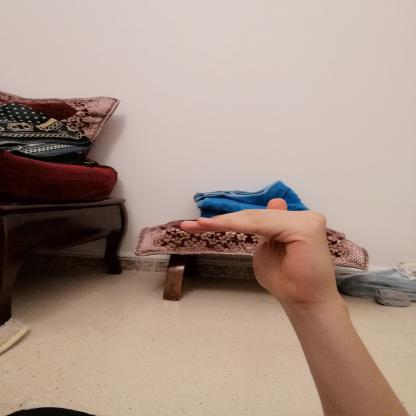KHAA: (162, 191, 348, 314)
